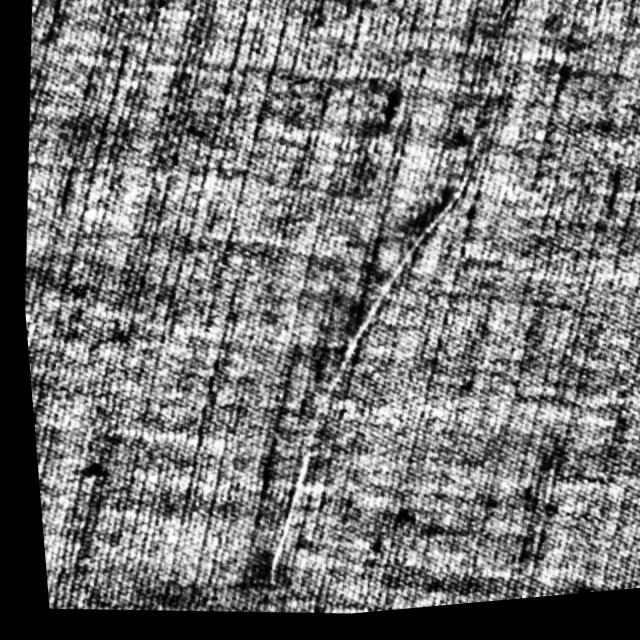Stitch: (209, 0, 594, 621)
